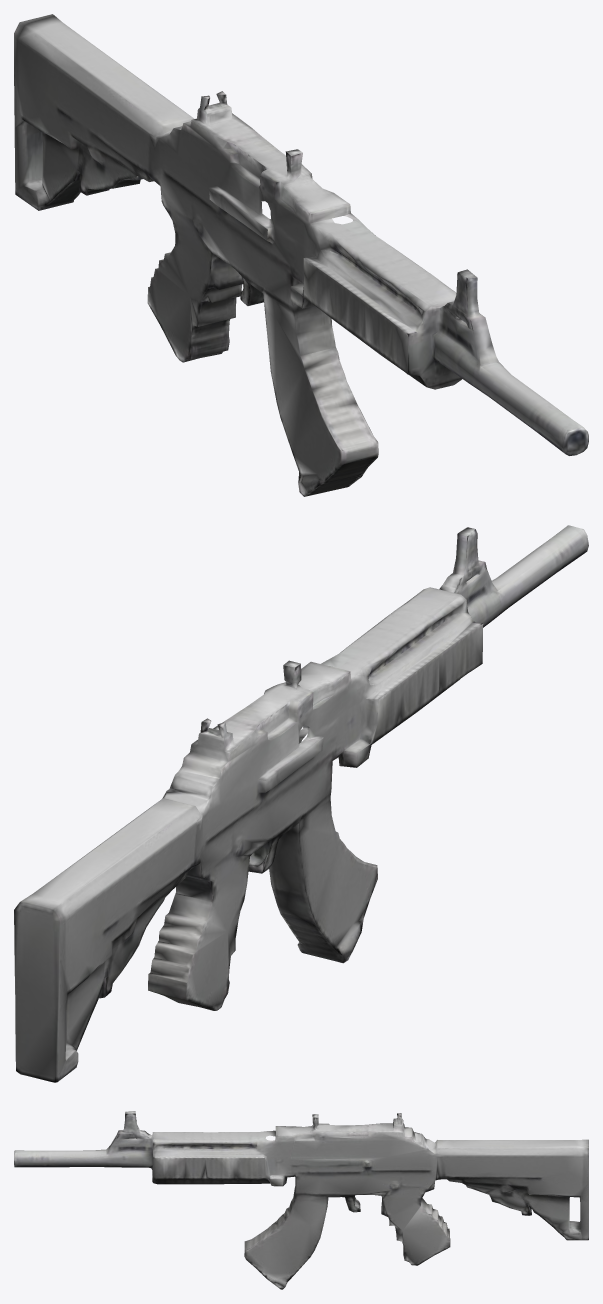
File: gun_rifle.glb
3 views of the same model, one above another, from view 1: azimuth 30°, elevation 25°; view 2: azimuth 150°, elevation 25°; view 3: azimuth 270°, elevation 25° (orthographic). The views are drawn at different scales.
Visible parts, largest first — view 1: gun_rifle; view 2: gun_rifle; view 3: gun_rifle.
Part boxes in pixels (<box>): gun_rifle: <box>14,14,588,496</box>; gun_rifle: <box>14,525,588,1082</box>; gun_rifle: <box>14,1111,588,1289</box>.
Bounding box in the file's own units: 0.0811 × 0.3298 × 1.
Materials: 1 (1 with a texture image).
